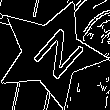N_SW: (18, 21, 83, 85)
